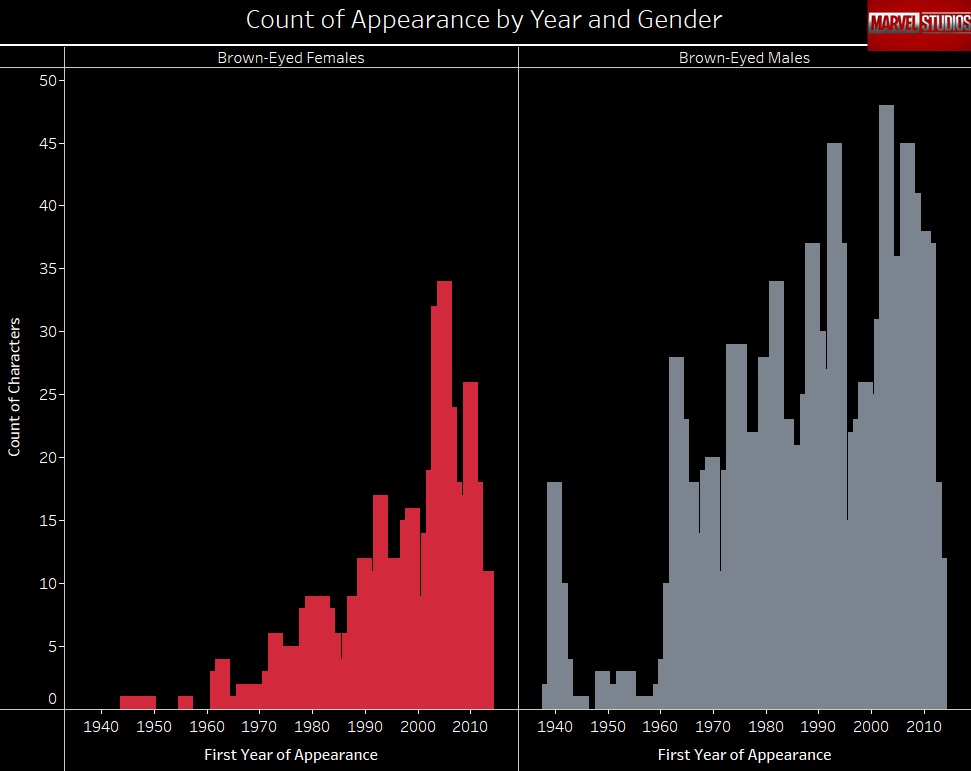

The page's visual inventory and layout, read from the dashboard file:
{"tool":"tableau","page":{"name":"Appearances by Year","canvas":[1000,800],"ordinal":1},"visuals":[{"type":"worksheet","title":"Count of Appearance by Year","mark":"Bar","rows":["name"],"cols":["SEX","year_first_appear"],"box":[8,8,984,784]},{"type":"image","param":"Image/marvel-studios-logo.png","box":[883,12,105,55]}]}

Visuals, with their boxes in screenshot pixels (x1, y1, x2, y2), scaled from the page's 1000x800 canvas onto the 971x771 screenshot:
"Count of Appearance by Year" worksheet (Bar marks): [left=8, top=8, right=963, bottom=763]
image: [left=857, top=12, right=959, bottom=65]
